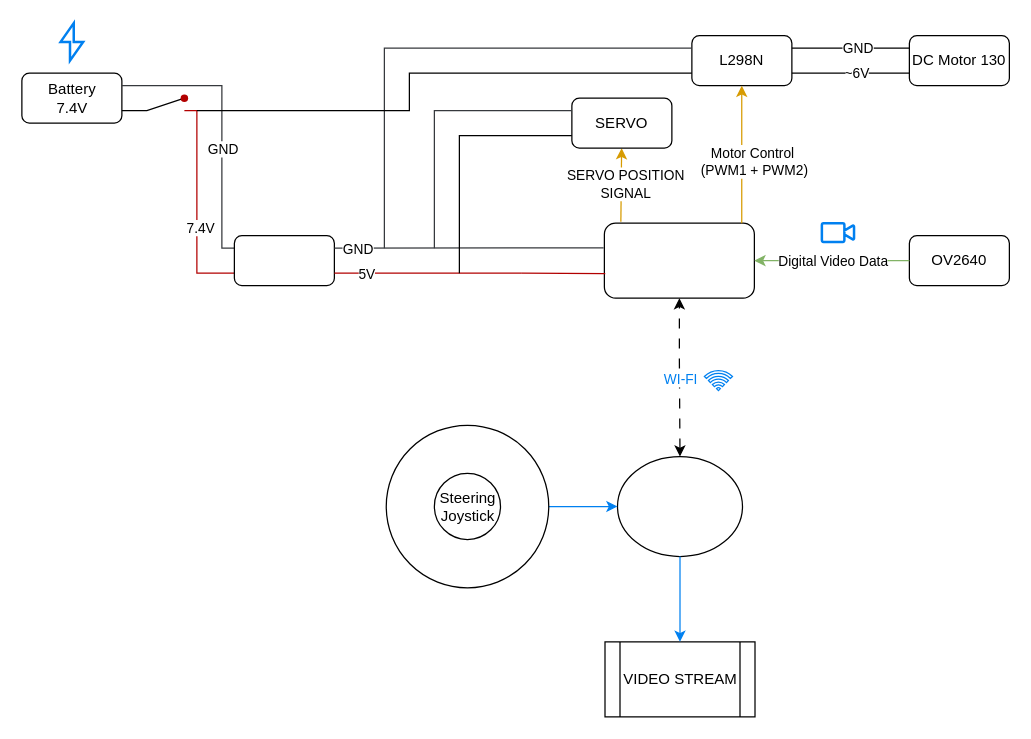
Image size: 1031x739. Some labels were removed from this diagram. Here are the shapes that lost their labels. From the top down, the box of each, then its label:
(233, 234, 334, 286): LM2596
(603, 222, 754, 298): ESP32-S3 OV2640
(616, 455, 742, 556): WEB INTERFACE
